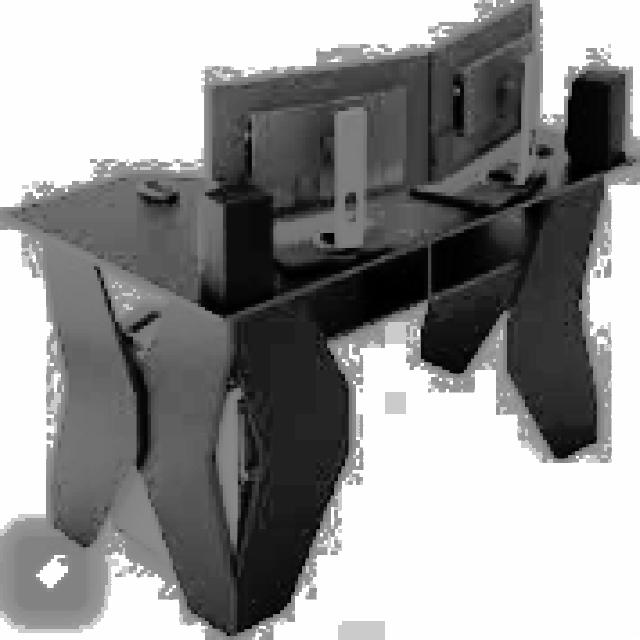table: (0, 122, 636, 636)
